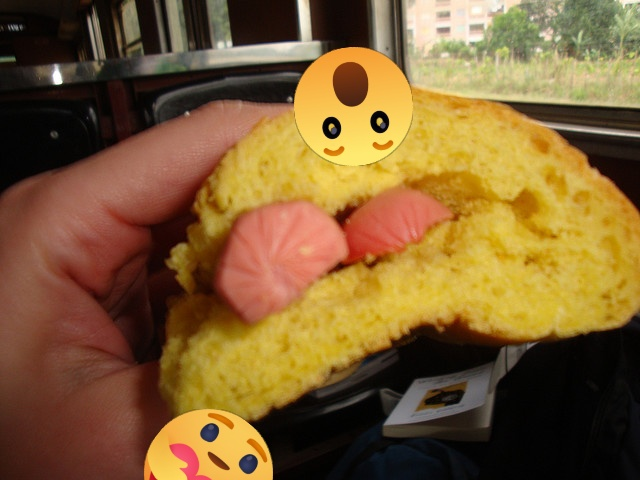care: (144, 409, 273, 480)
wow: (294, 47, 413, 166)
